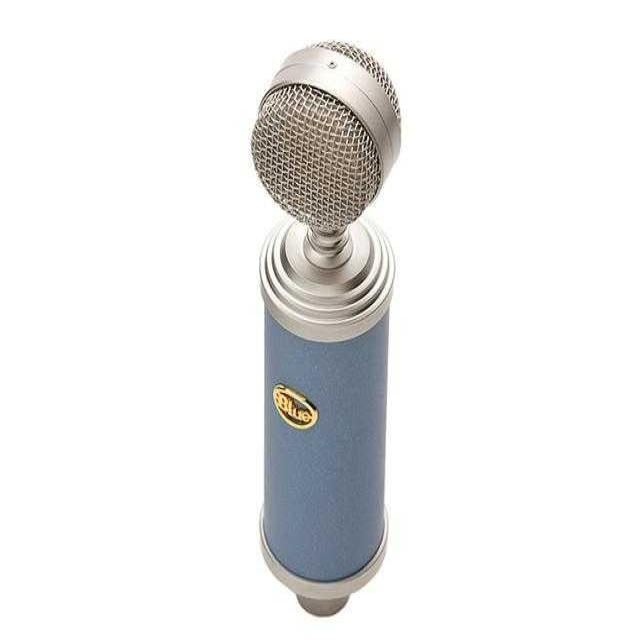microphone: (250, 41, 407, 608)
